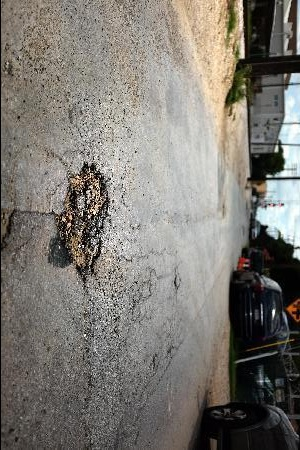pothole: (56, 162, 109, 280), (1, 205, 19, 250)
